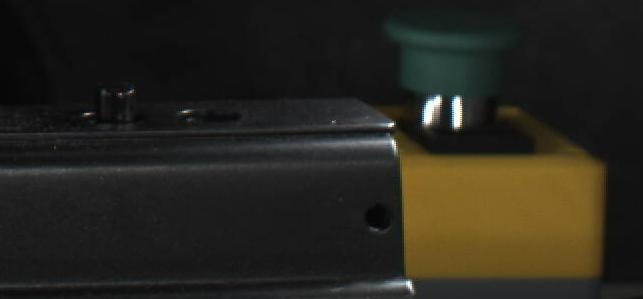screw: (86, 77, 142, 129)
